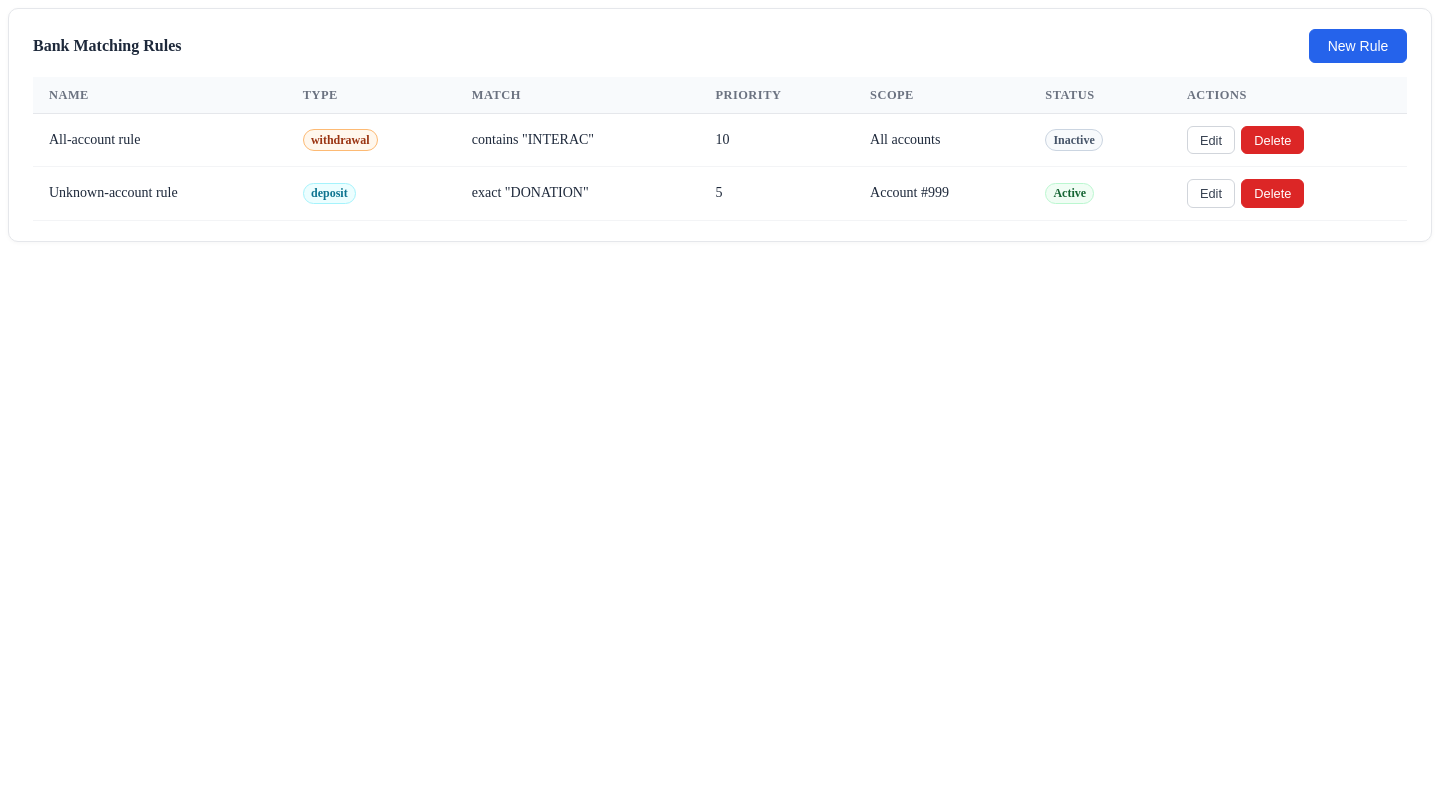
BankFeedRulesTab › opens edit/new modals and renders scope fallbacks
Expected: the text "All accounts" is shown, [854,114,1029,167]
Expected: the text "Account #999" is shown, [854,167,1029,220]
Click the button "Delete" in the row of "All-account rule" at (1273, 140), box [1241,126,1304,154]
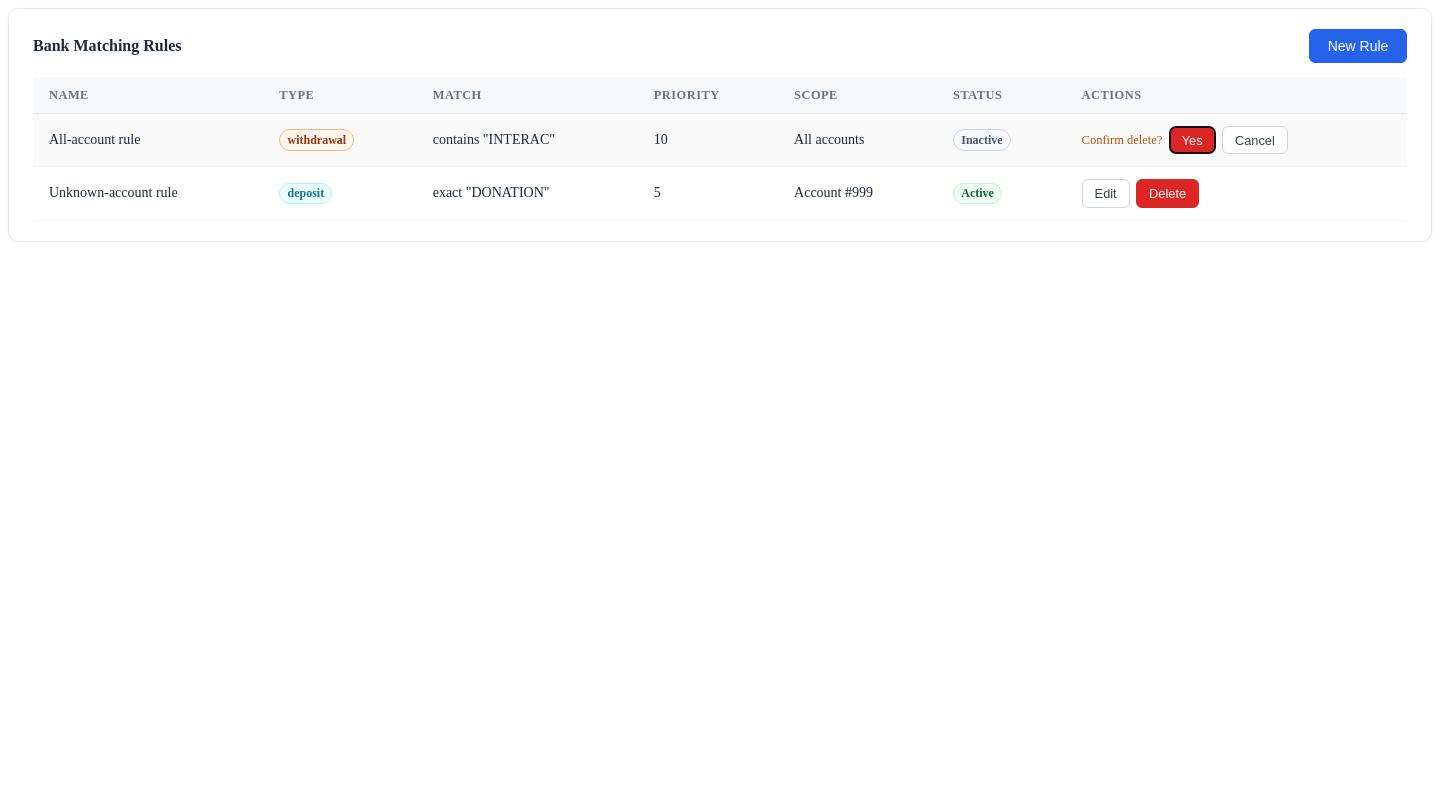
Click the button "Edit" at (1106, 194), box [1082,179,1130,208]
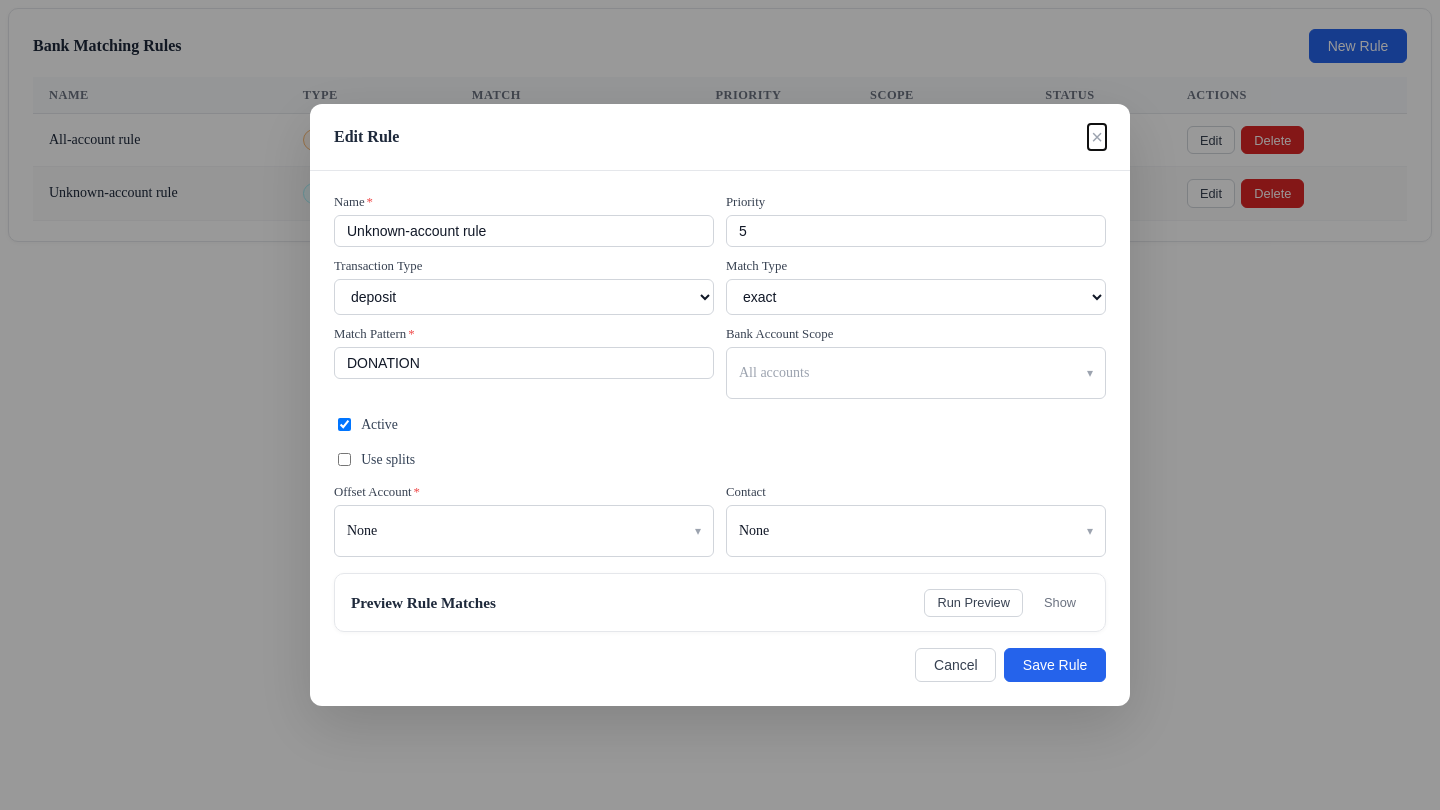
Expected: the button "Cancel" is shown
Expected: the heading "Edit Rule" is shown, [334,128,399,146]
Click the button "Cancel" at (956, 665), box [915,648,996,682]
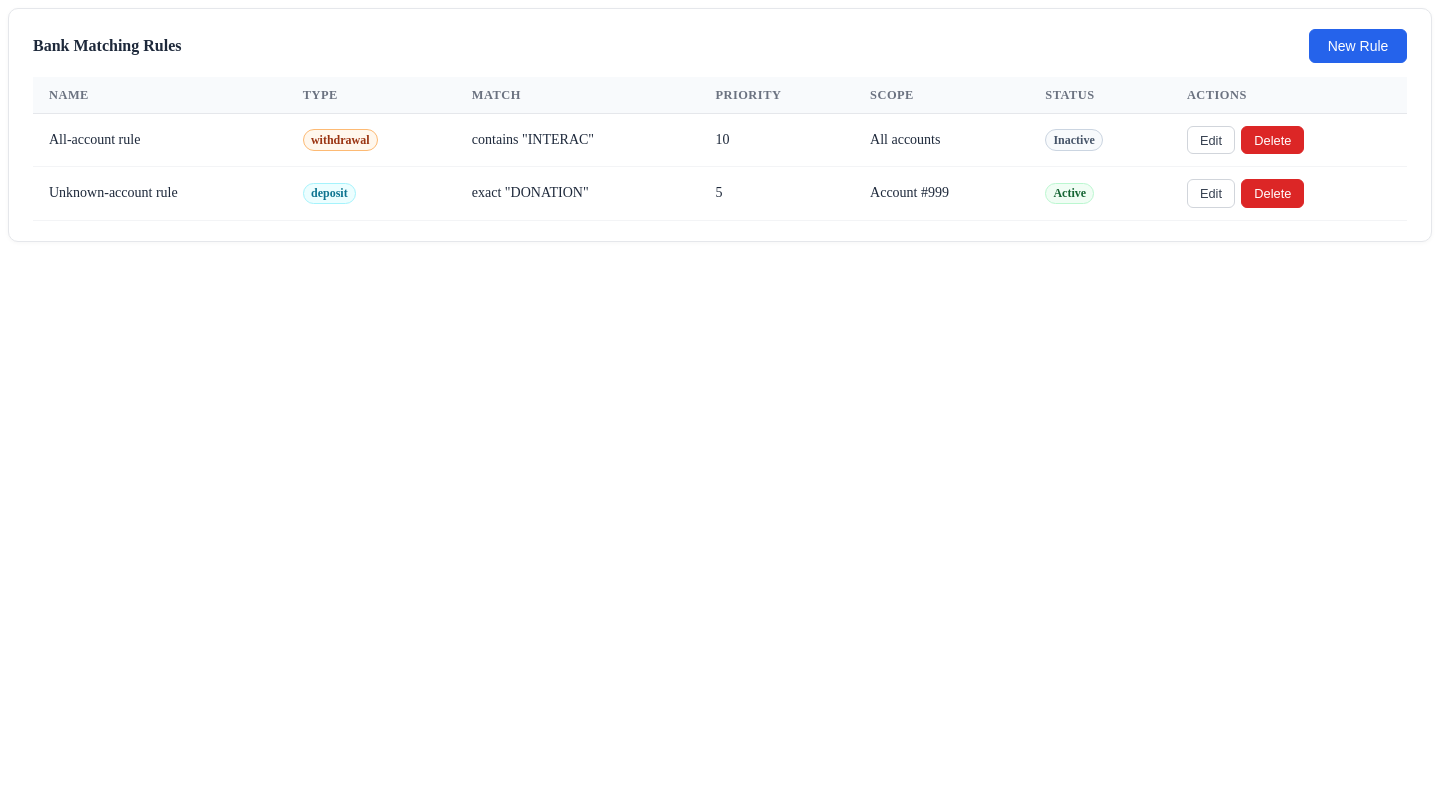
Click the button "New Rule" at (1358, 46), box [1309,29,1407,63]
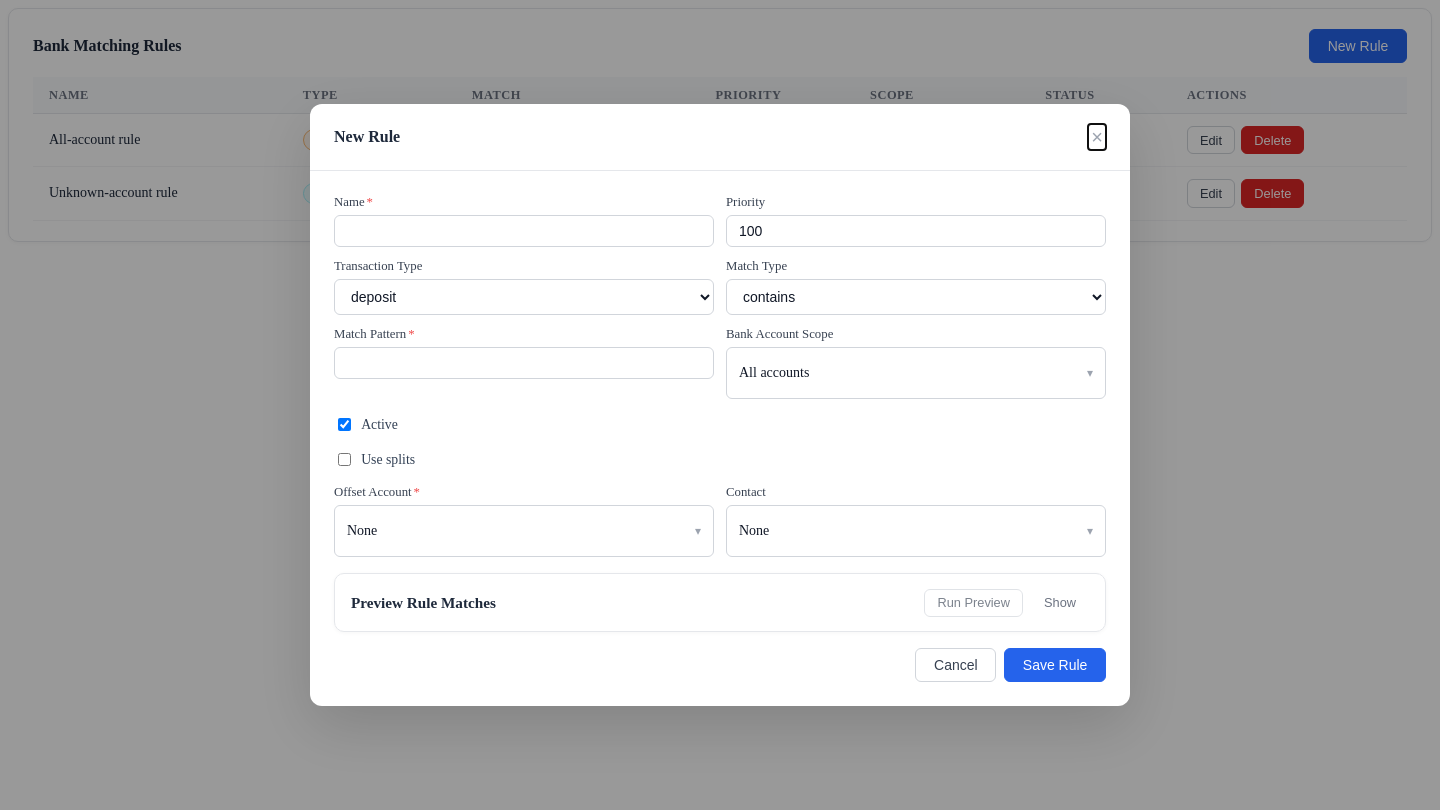
Expected: the heading "New Rule" is shown, [334,128,400,146]
